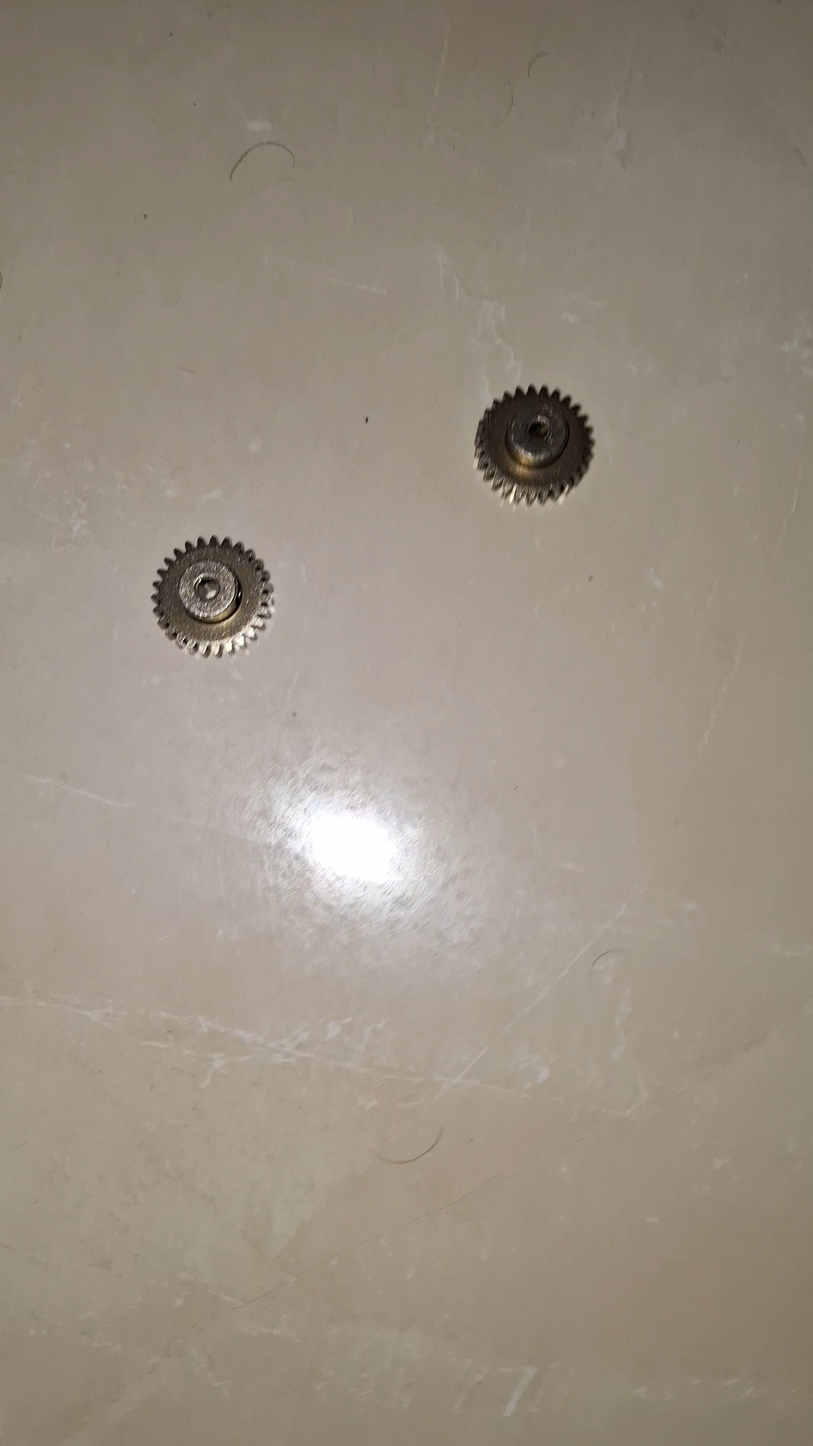spur gear: (153, 536, 273, 656), (475, 387, 592, 503)
